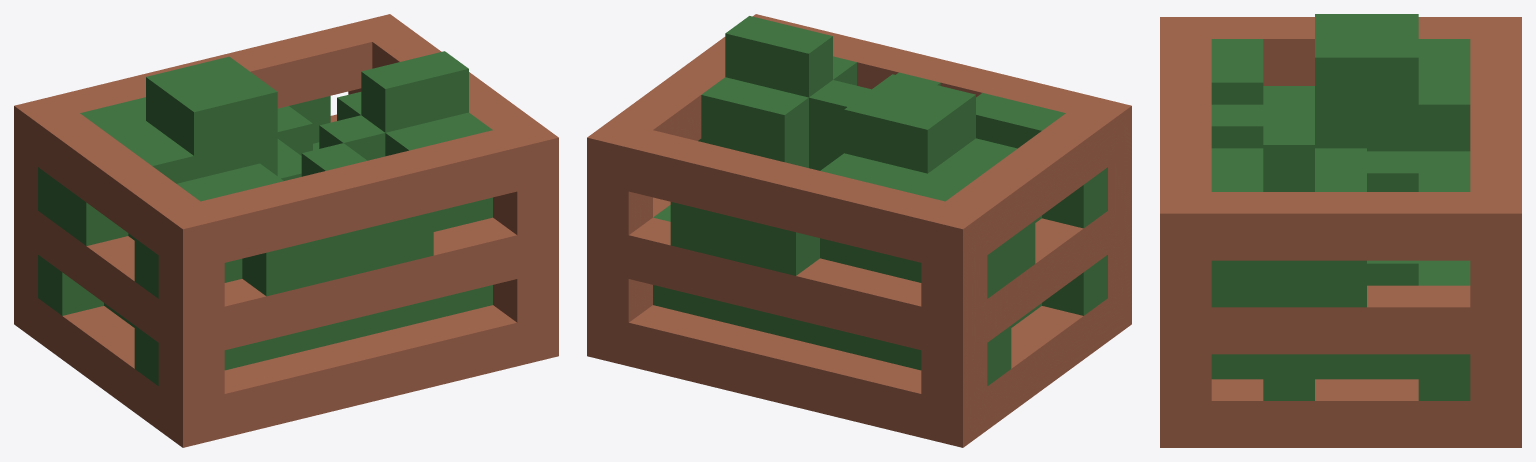
The model's file is box_green.obj.
3 views of the same model, side by side, from view 1: azimuth 30°, elevation 25°; view 2: azimuth 150°, elevation 25°; view 3: azimuth 270°, elevation 25° (orthographic). The views are drawn at different scales.
Bounding box in the file's own units: 0.9 × 0.6 × 0.7.
Materials: 1 (1 with a texture image).
